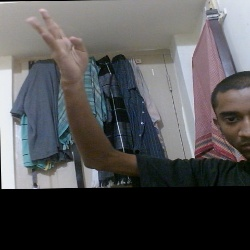hand: (23, 7, 90, 83)
